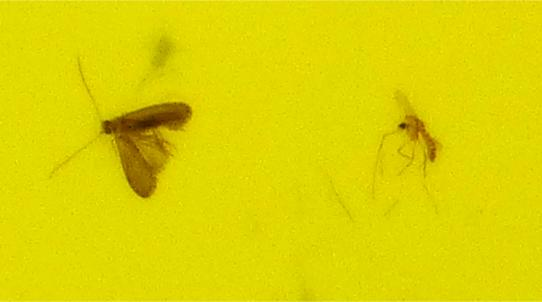Nematocera: (394, 113, 442, 161)
Trichoptera: (100, 100, 196, 202)
